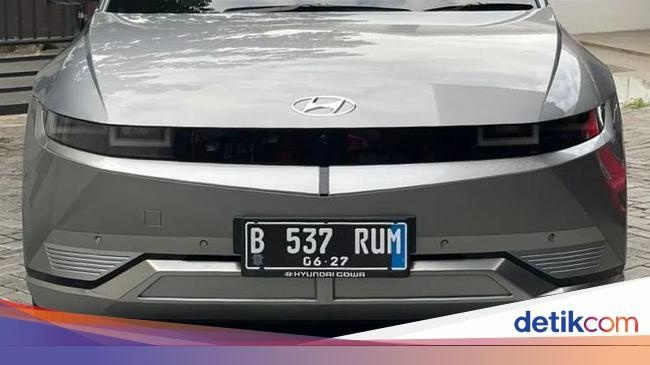plate: (243, 221, 410, 274)
